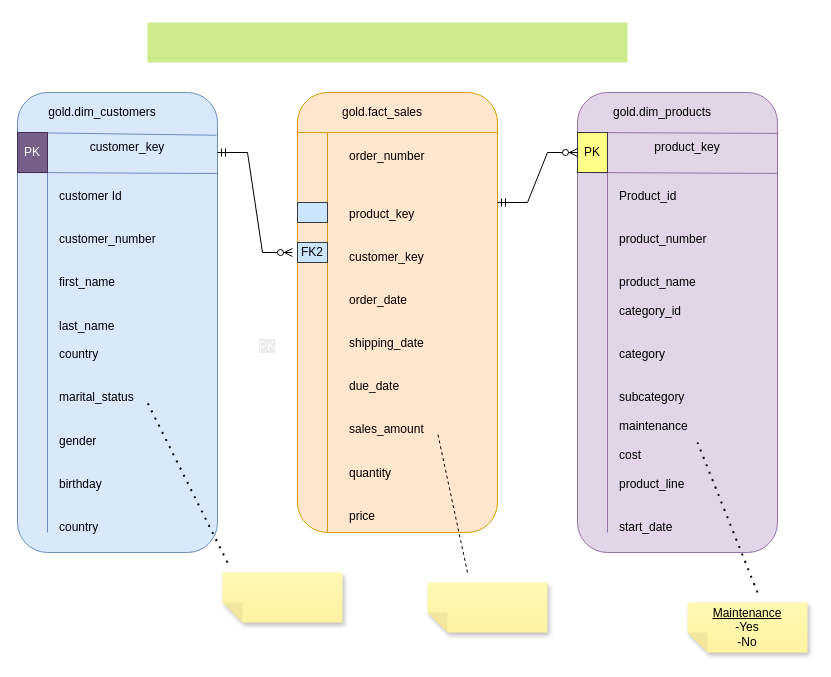
Image size: 831x677. Some labels were removed from this diagram. Here are the shapes that lost their labels. From the top down, the centre of each, then its label:
(x=387, y=42): Sales Data Mart(star schema)
(x=312, y=212): FK1
(x=283, y=598): marital status -Married -Single
(x=488, y=608): Sales Calculation Sales=Quantity*price
